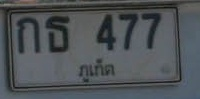txt01: (15, 15, 42, 55)
txt19: (45, 14, 71, 53)
